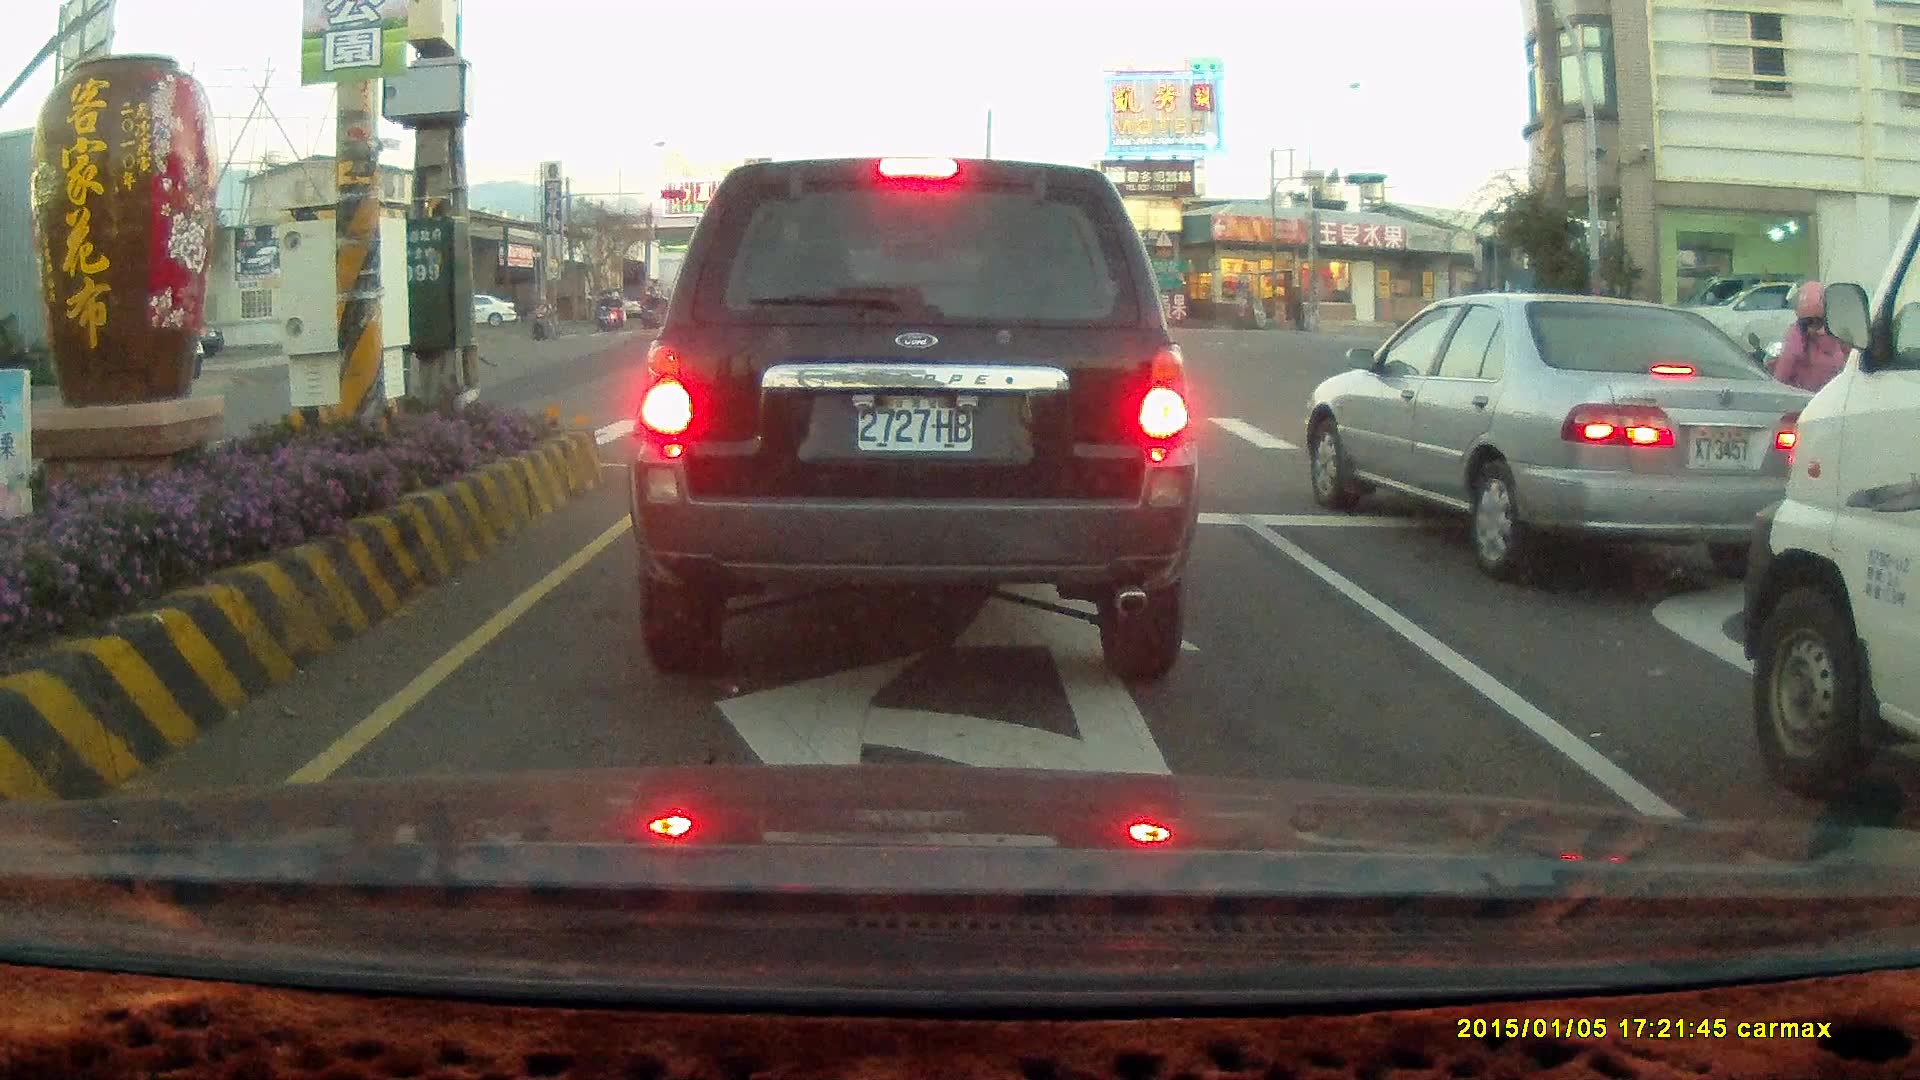rider: (1706, 273, 1920, 522), (527, 290, 562, 337), (593, 290, 614, 331), (643, 289, 664, 326), (606, 293, 627, 330)
vehicle: (625, 155, 1200, 684), (1300, 289, 1828, 582), (1315, 293, 1847, 579), (1743, 194, 1920, 812), (1660, 276, 1855, 370), (1668, 275, 1823, 373)
